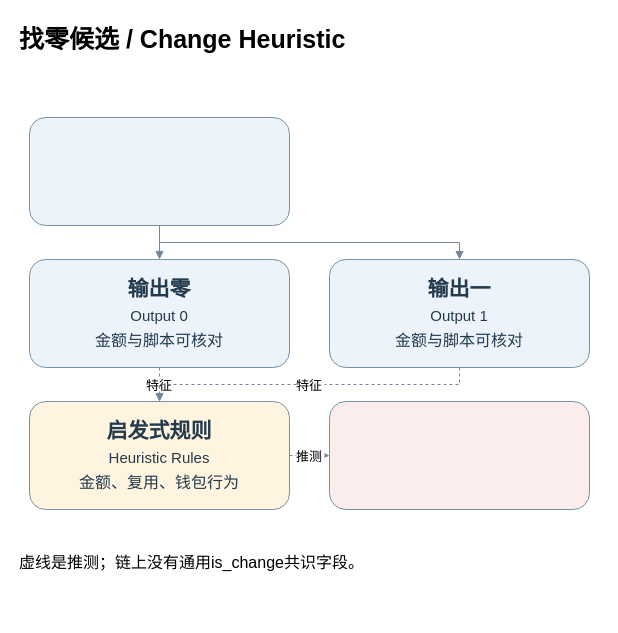
Image size: 618x633. Some labels were removed from this diagram. The shapes that lost their labels are listed below. From the top down, each one's centre as x and y in pixels, then its label:
At point (159, 171): "双输出交易 Two-Output Transaction 真实用途未知".
At point (459, 455): "找零候选 Candidate Change 需要业务或钱包证据".
